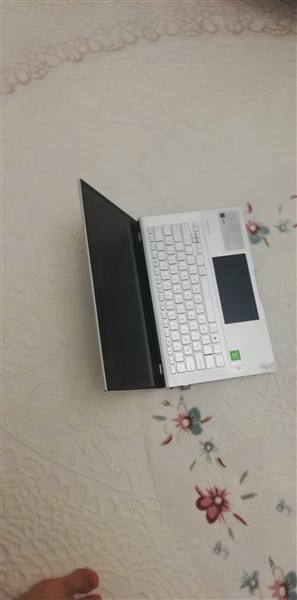laptop: (75, 174, 273, 397)
